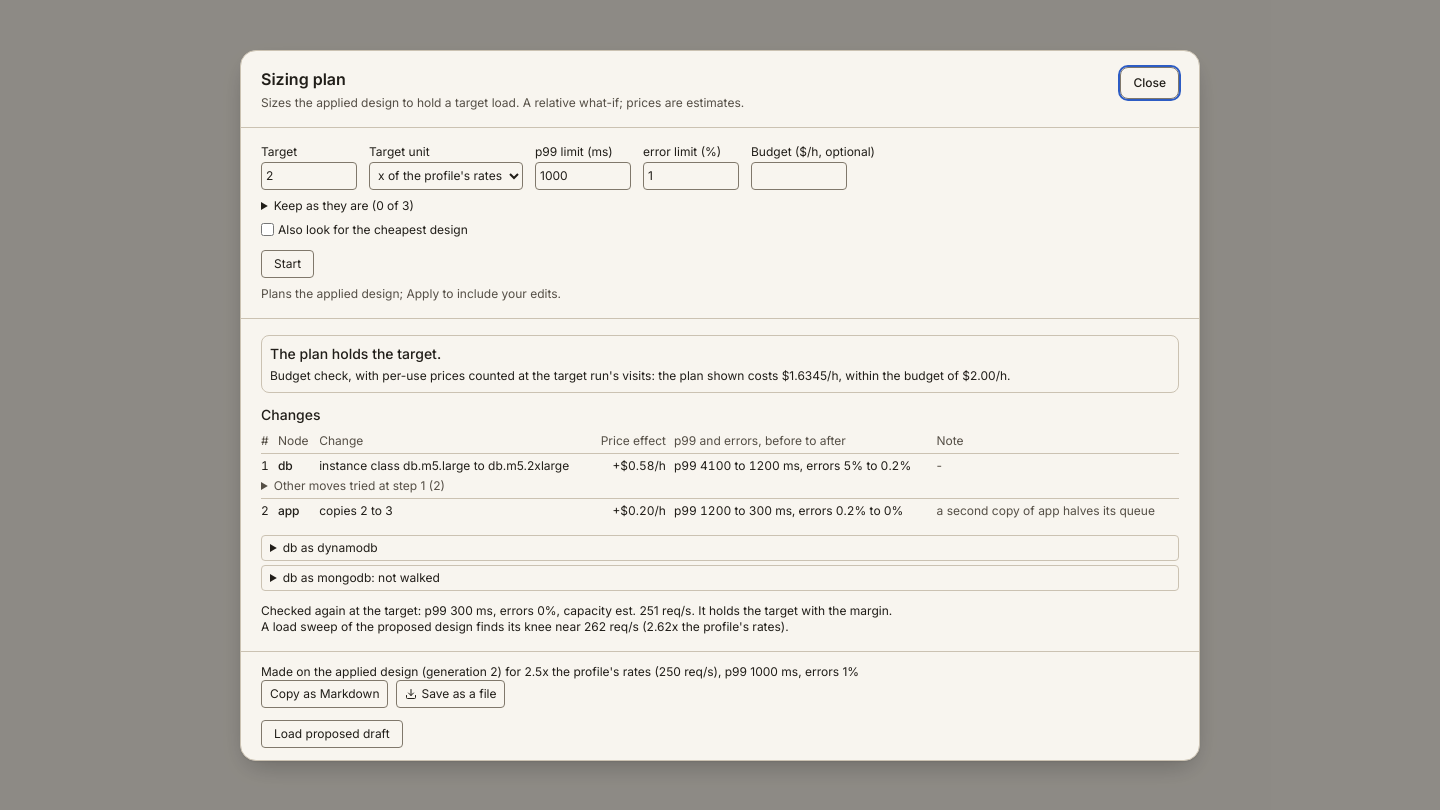
Scenario: Copy my draft writes view.text
Click the button "Load proposed draft". click: point(332, 734)
box: [261, 720, 403, 748]
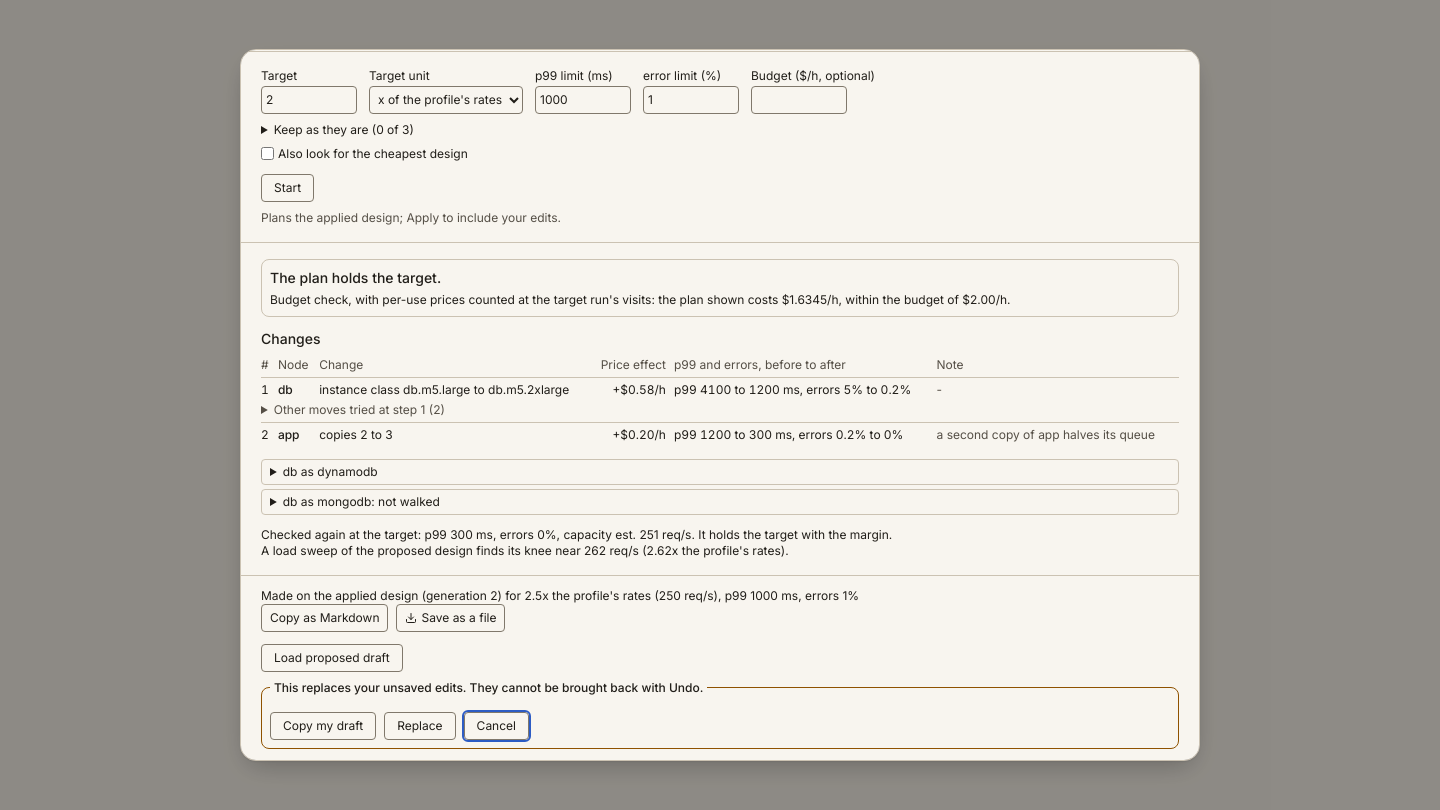
Click the button "Copy my draft". click: point(323, 726)
box: [270, 712, 376, 740]
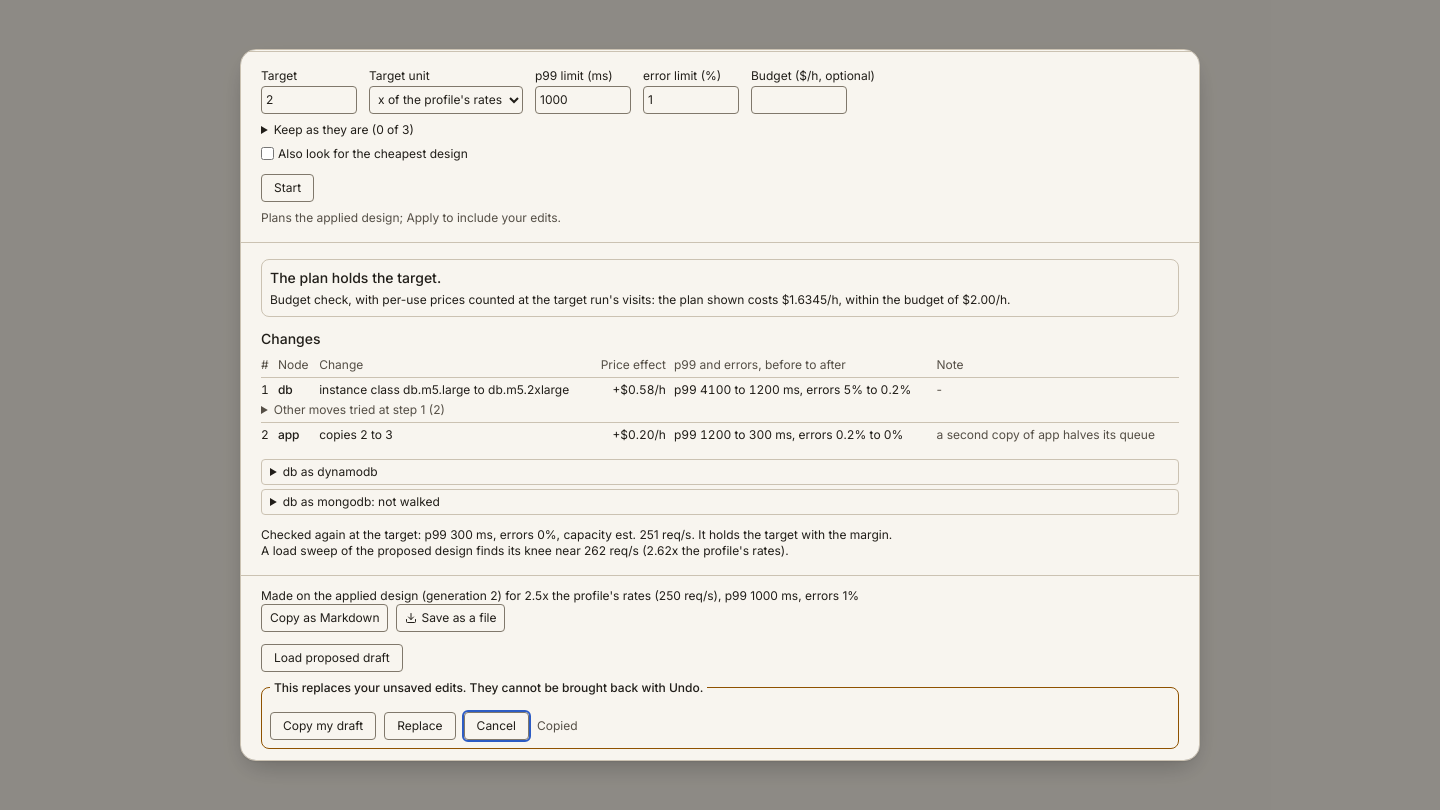
Check: the text "Copied" is shown, box [537, 718, 578, 734]
